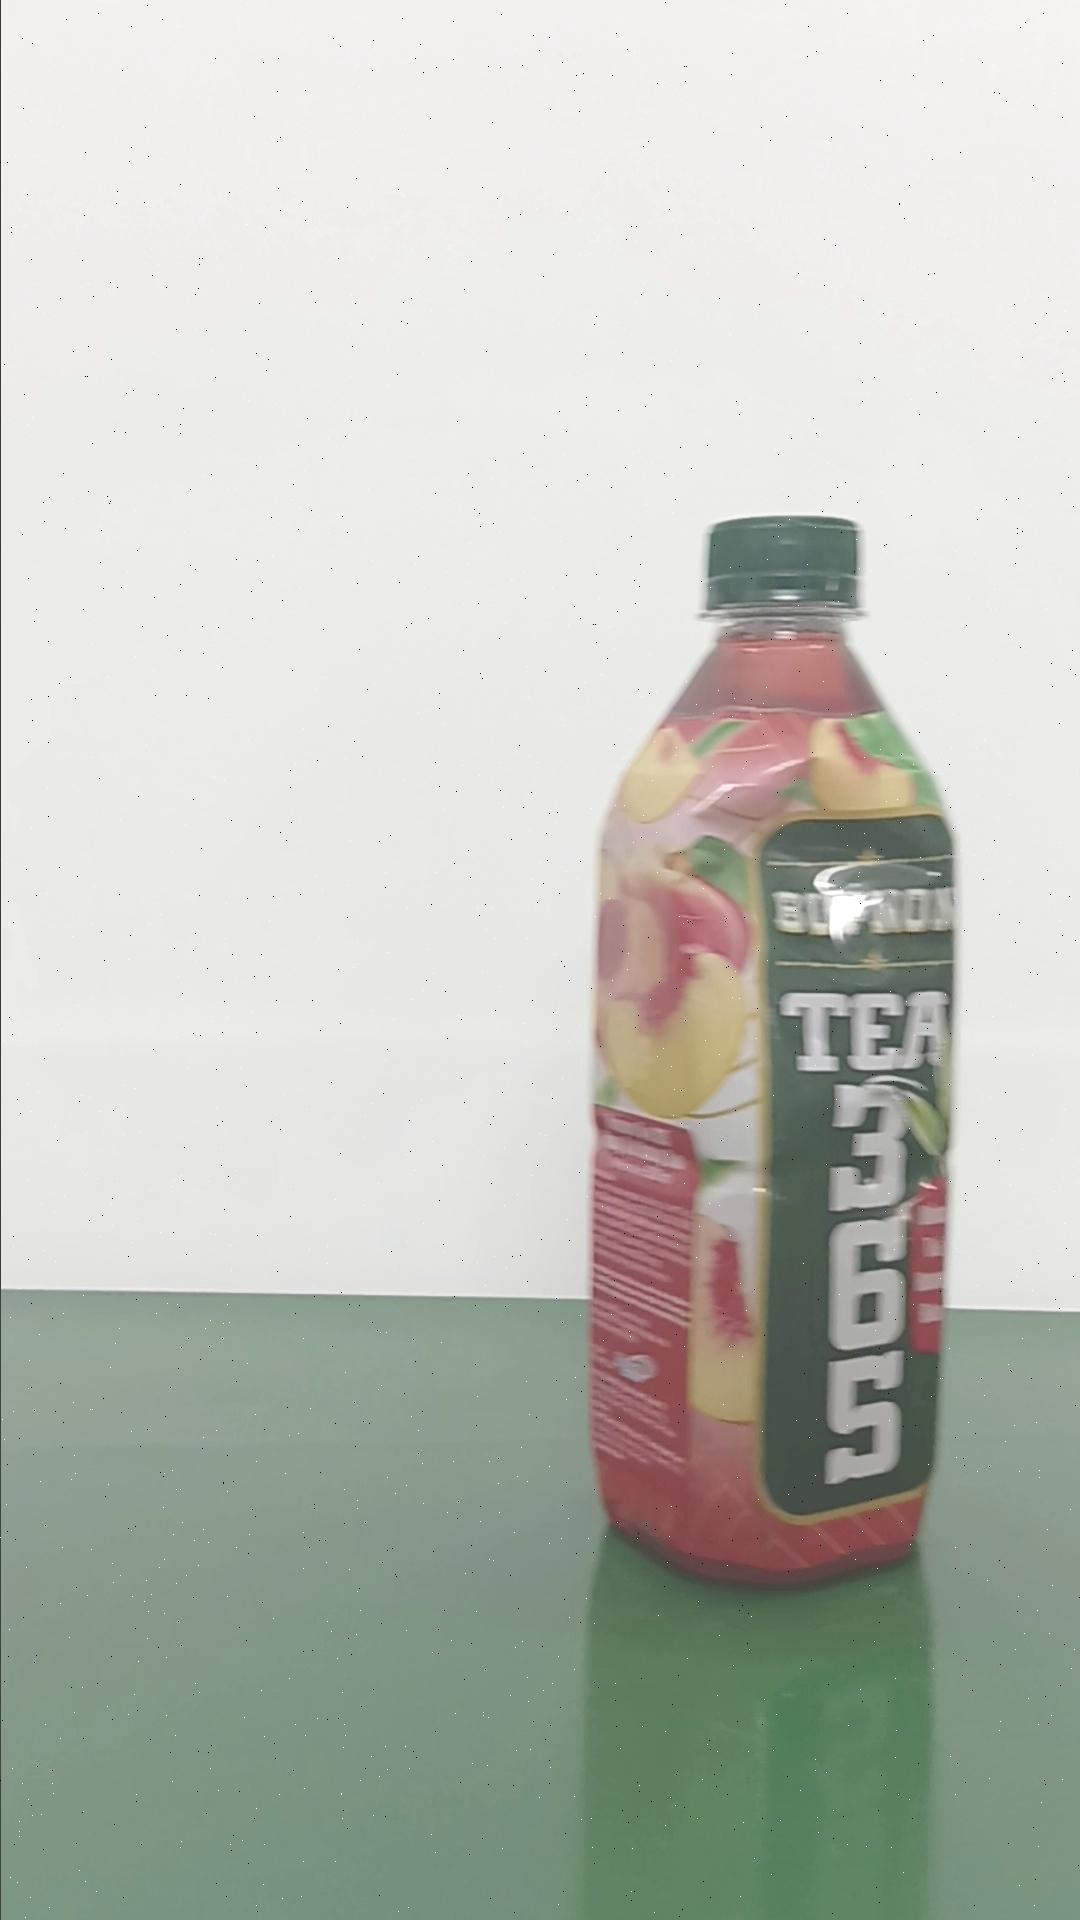loi meo sp: (582, 510, 959, 1586)
